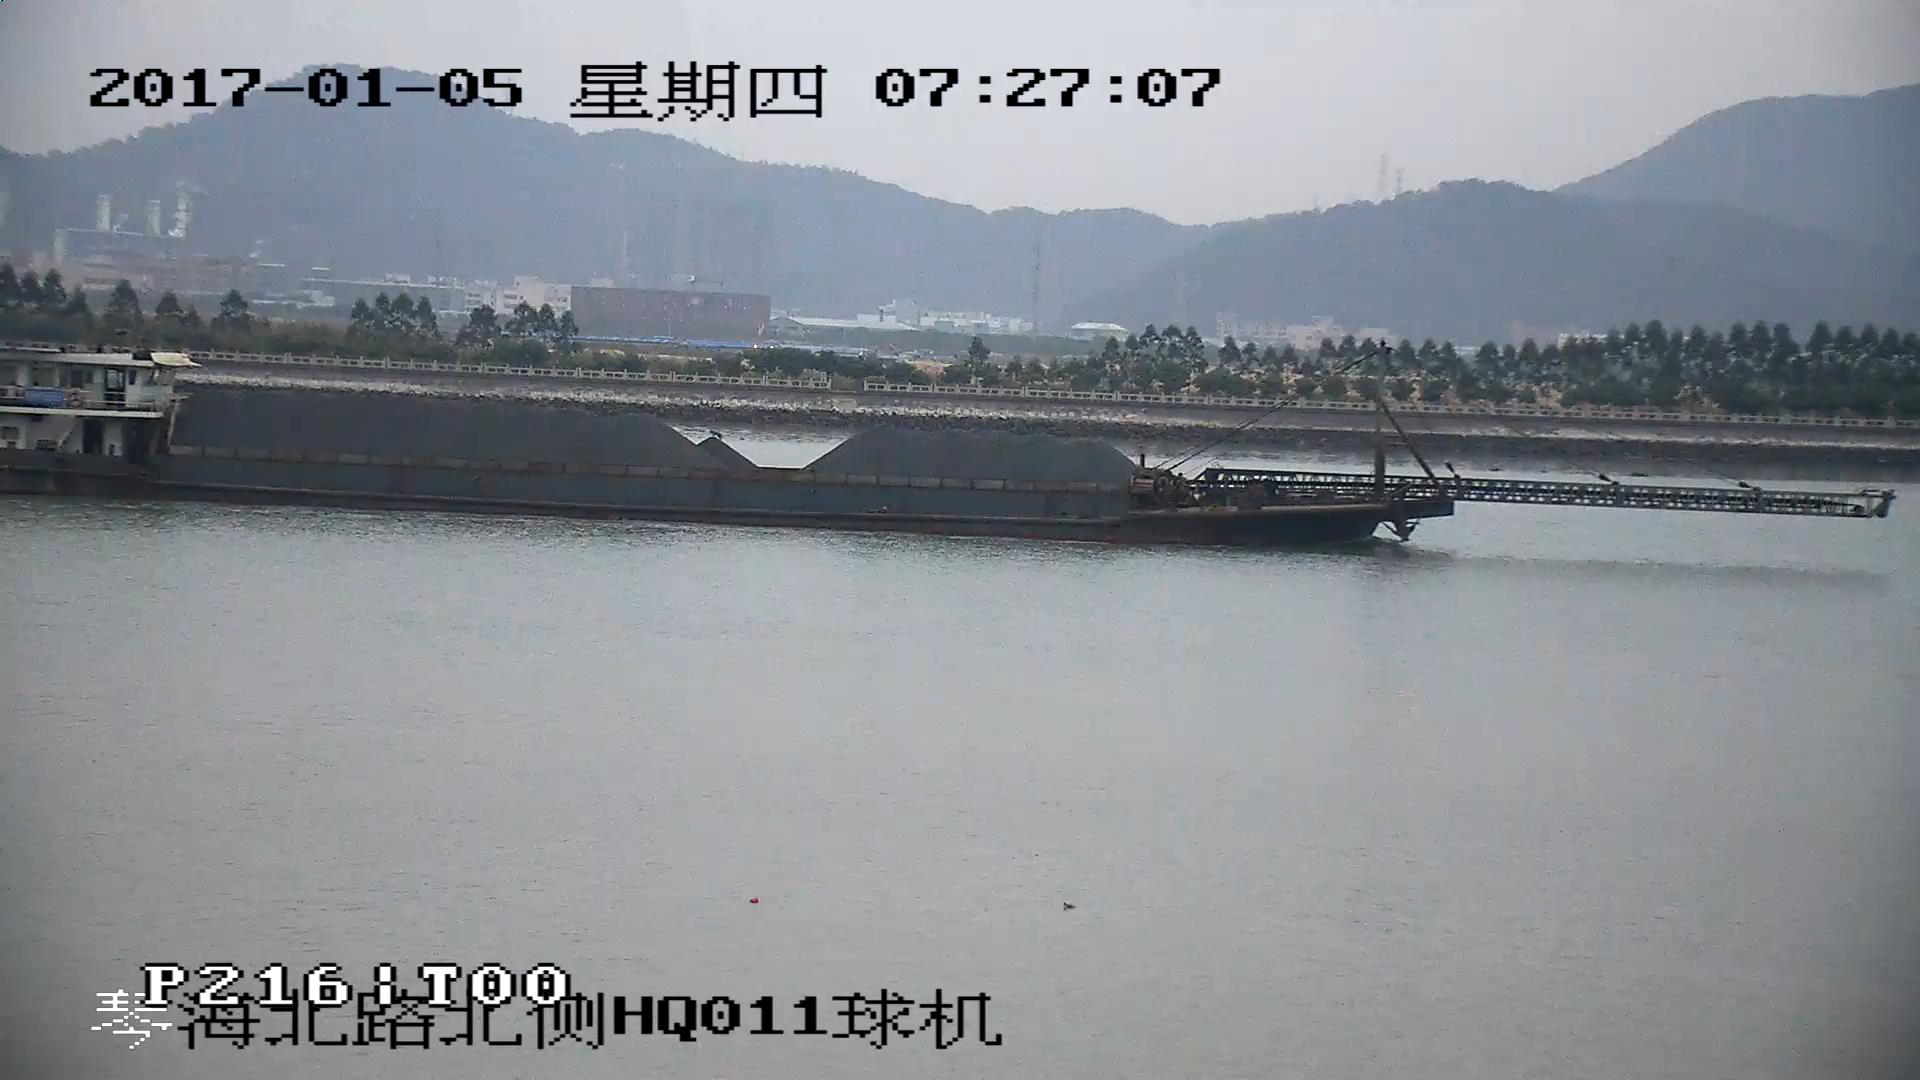ore carrier: (1, 353, 1886, 538)
